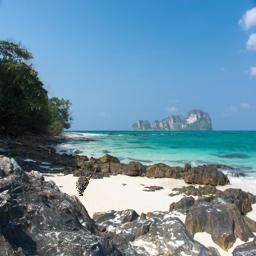Sparrow: (76, 172, 93, 196)
